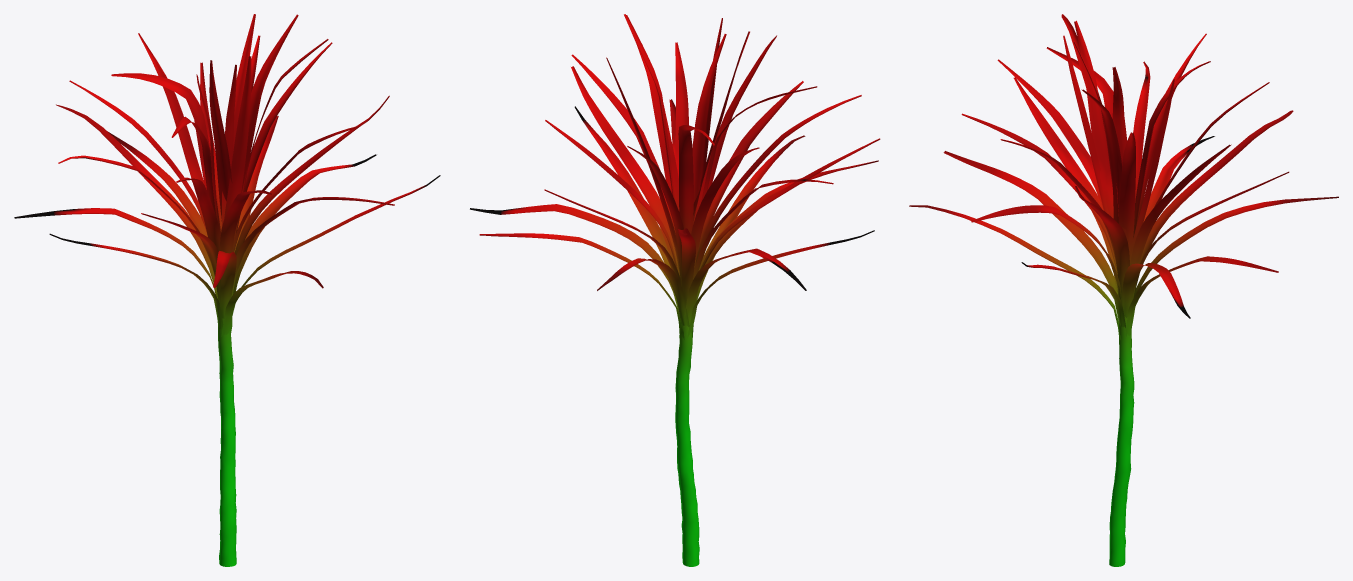
Rendered from Dragon Tree_LOD0_Var8_wfypejzha.fbx.
The picture shows the model from 3 angles, left to right: view 1: azimuth 30°, elevation 25°; view 2: azimuth 150°, elevation 25°; view 3: azimuth 270°, elevation 25°; orthographic projection.
Parts seen in each view (by area): view 1: _nz32_Var8_LOD0; view 2: _nz32_Var8_LOD0; view 3: _nz32_Var8_LOD0.
Part boxes in pixels (left/top/right/bottom): _nz32_Var8_LOD0: left=14, top=14, right=440, bottom=566; _nz32_Var8_LOD0: left=470, top=14, right=880, bottom=566; _nz32_Var8_LOD0: left=909, top=14, right=1338, bottom=566.
Bounding box in the file's own units: 38.06 × 52.9 × 38.88.
